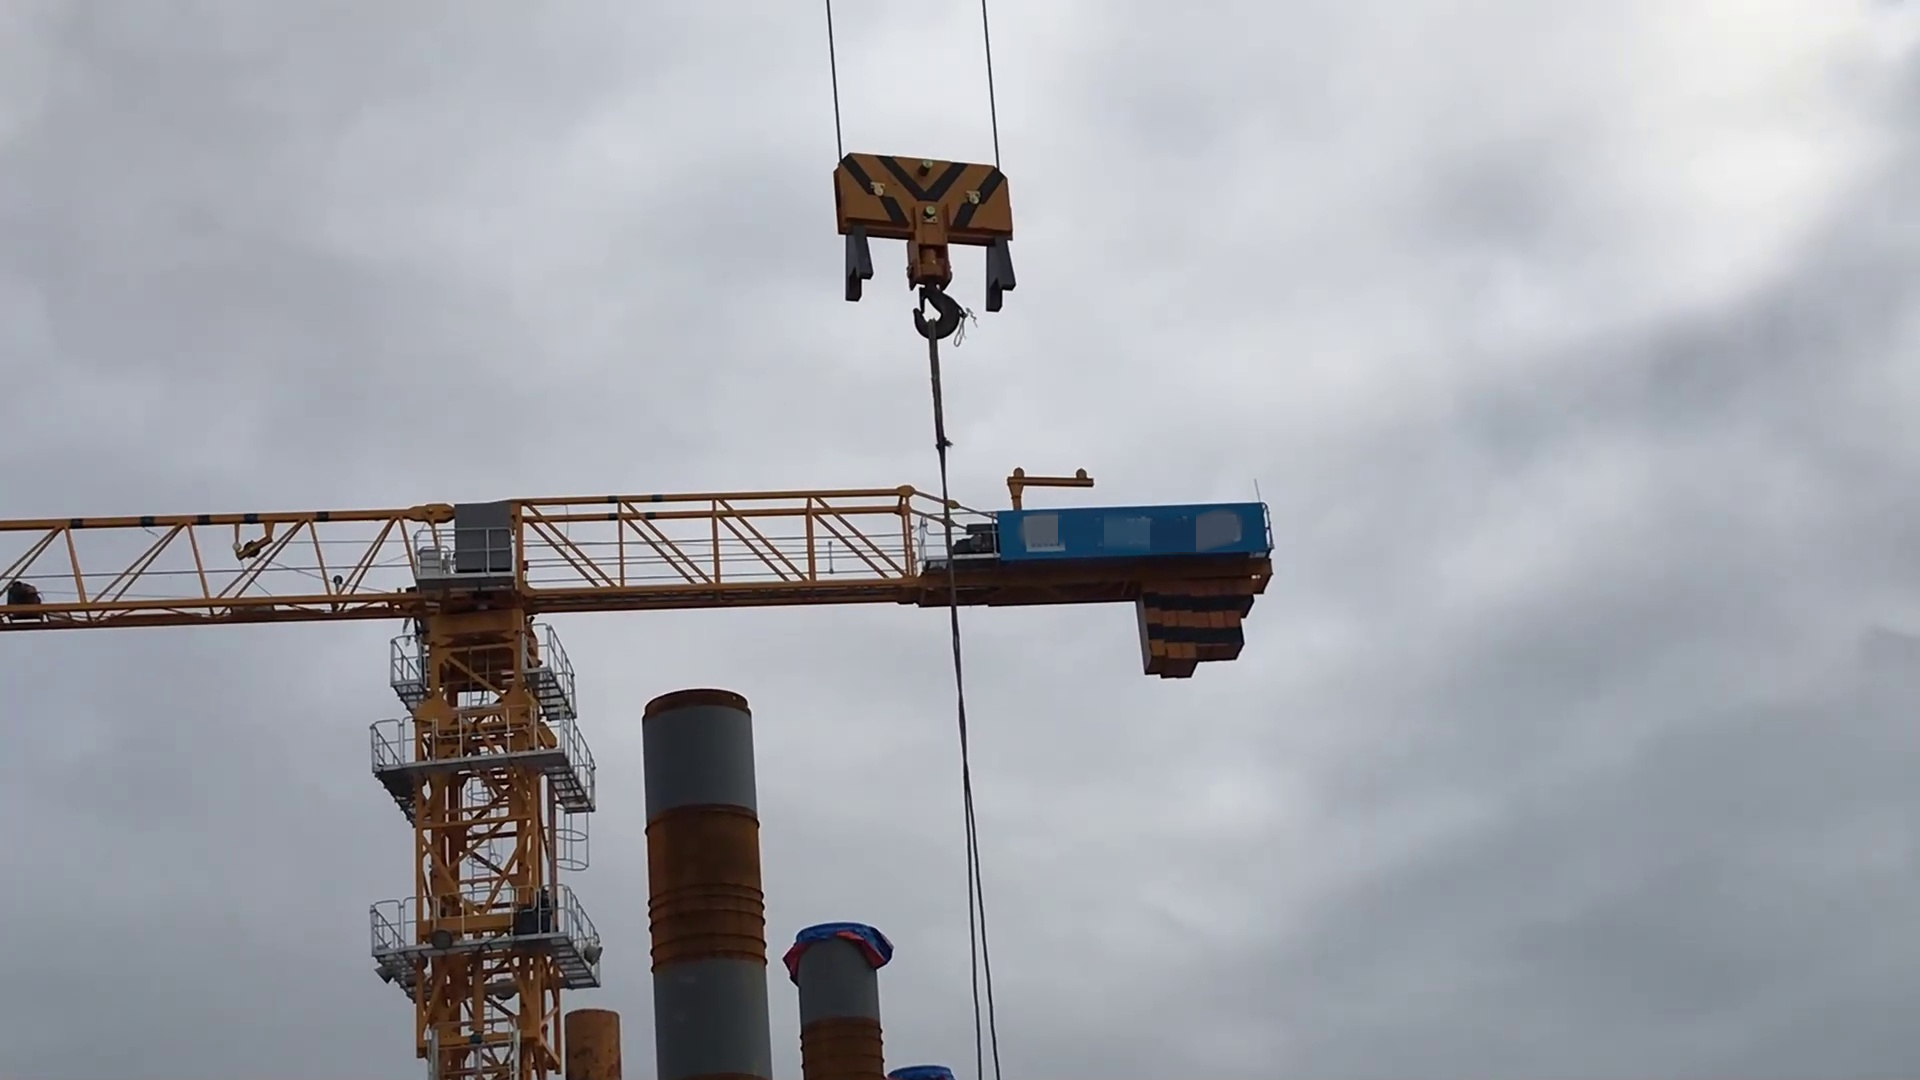hook: (822, 141, 1029, 353)
